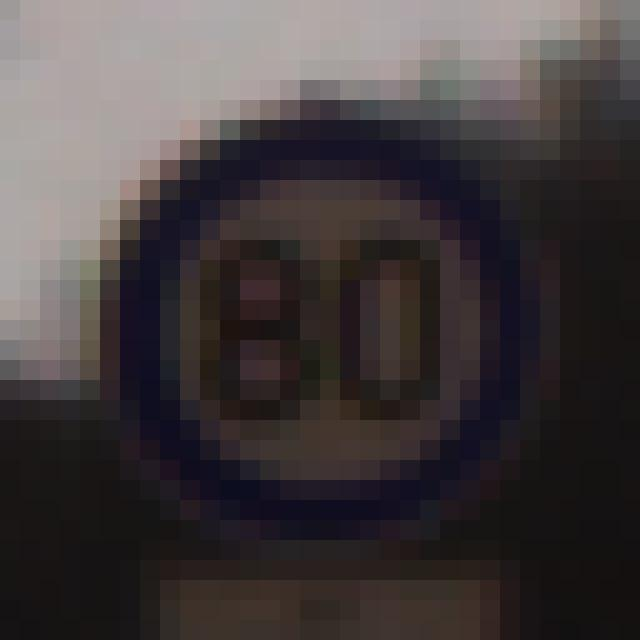SPEED-LIMIT-80: (94, 121, 534, 531)
